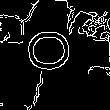O_E: (29, 32, 81, 78)
